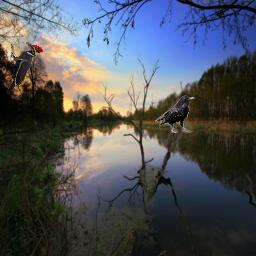Crow: (155, 94, 195, 133)
Woodpecker: (7, 42, 43, 95)
